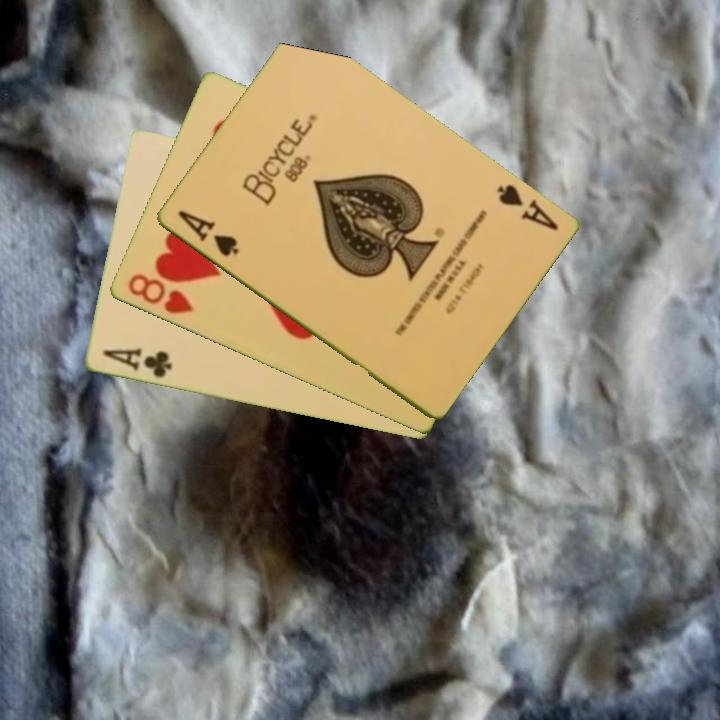8h: (123, 270, 196, 317)
Ac: (98, 345, 175, 381)
As: (173, 207, 242, 260), (492, 181, 561, 234)
